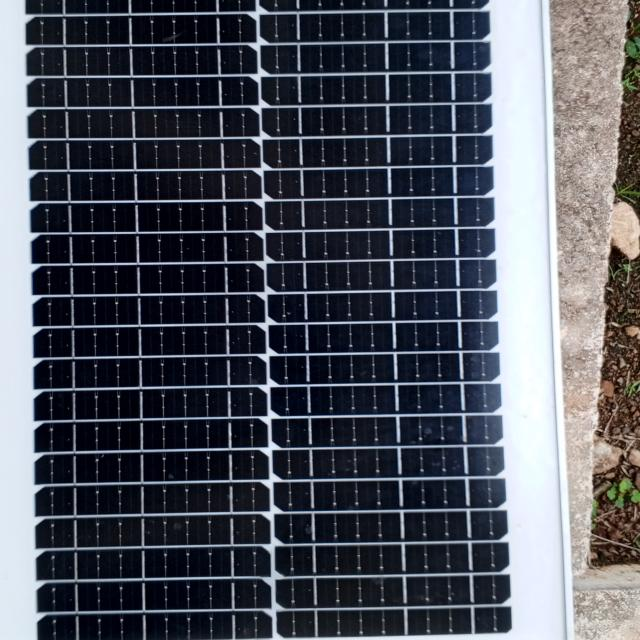Clean: (7, 0, 547, 638)
